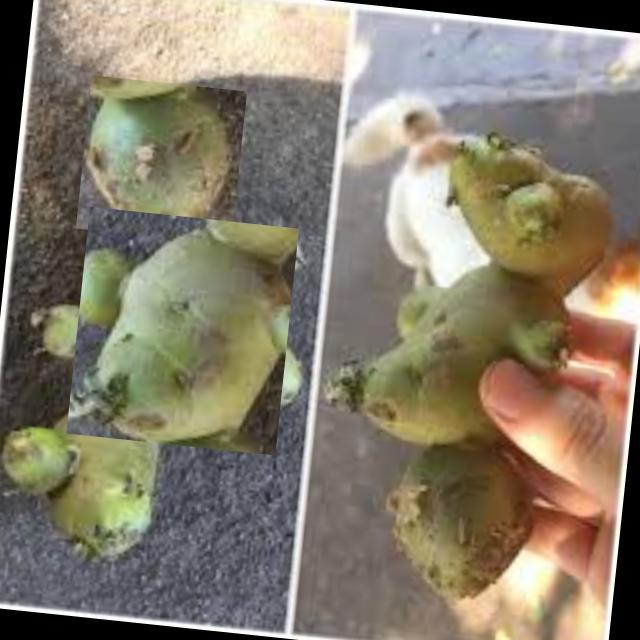Defected potato: (65, 205, 298, 454), (74, 74, 246, 244), (24, 385, 168, 570)
Sprouted potato: (290, 109, 630, 632)
